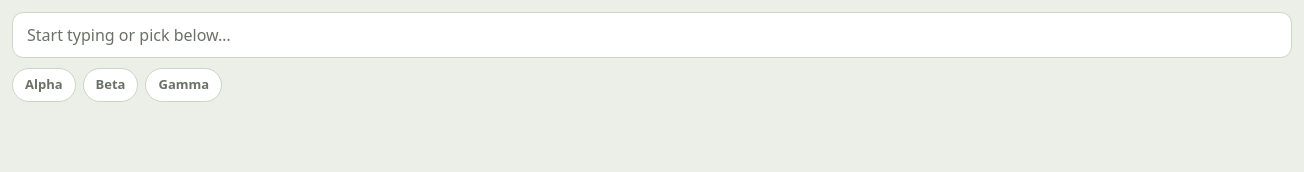
TagPicker › filters the suggestion pool by the query
In the field: (652, 35) [12,12,1292,58], type "gam"
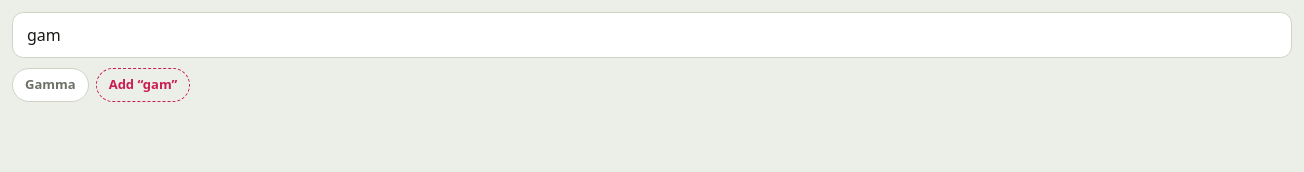
Expected: the button "Gamma" is shown, [12,68,89,102]
Now the button "Alpha" is gone
